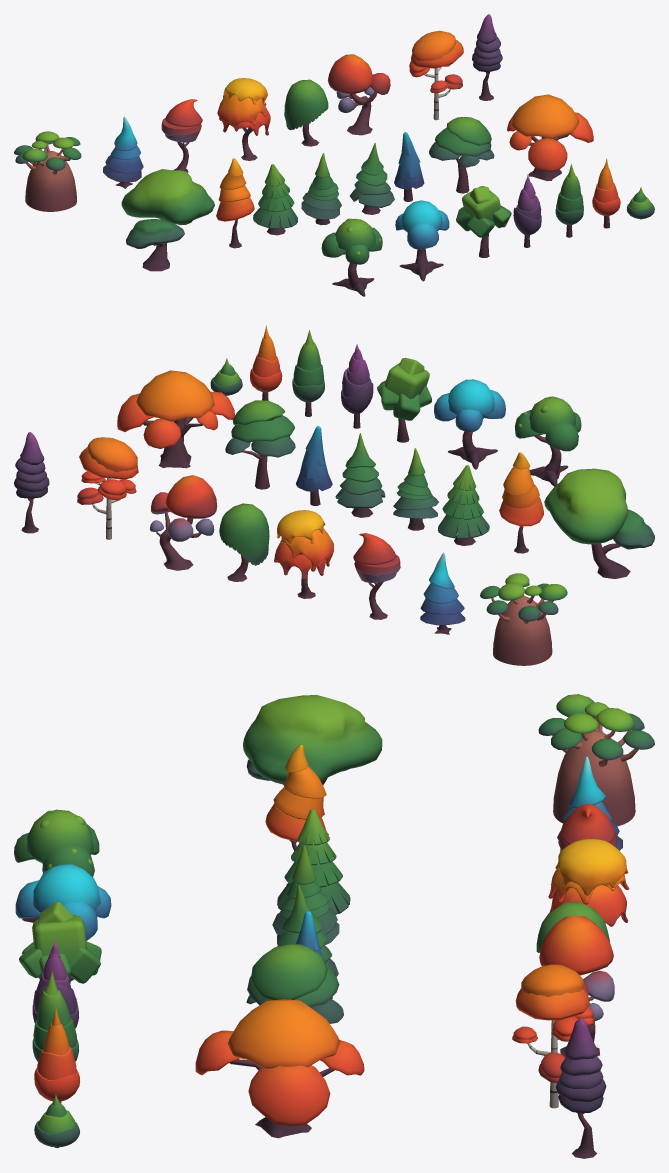
Rendered from Trees_Pack_01.fbx.
3 views of the same model, one above another, from view 1: azimuth 30°, elevation 25°; view 2: azimuth 150°, elevation 25°; view 3: azimuth 270°, elevation 25° (orthographic). The views are drawn at different scales.
Visible parts, largest first — view 1: Tree.026, Tree.006, Tree.027, Tree.019, Tree.007, Tree.017, Tree.013, Tree.021, Tree.012, Tree.005, Tree.010, Tree.018 (+11 smaller); view 2: Tree.026, Tree.006, Tree.027, Tree.019, Tree.021, Tree.007, Tree.012, Tree.017, Tree.013, Tree.005, Tree.018, Tree.010 (+11 smaller); view 3: Tree.006, Tree.026, Tree.027, Tree.021, Tree.017, Tree.007, Tree.019, Tree.012, Tree.005, Tree.013, Tree.020, Tree.014 (+10 smaller).
Part boxes in pixels (bbox=[...]): Tree.026: bbox=[121, 169, 214, 271]; Tree.006: bbox=[507, 94, 593, 181]; Tree.027: bbox=[14, 131, 81, 211]; Tree.019: bbox=[327, 54, 390, 135]; Tree.007: bbox=[429, 117, 494, 193]; Tree.017: bbox=[217, 78, 270, 160]; Tree.013: bbox=[321, 218, 382, 296]; Tree.021: bbox=[409, 30, 463, 120]; Tree.012: bbox=[395, 200, 449, 281]; Tree.005: bbox=[456, 186, 511, 257]; Tree.010: bbox=[253, 164, 297, 235]; Tree.018: bbox=[284, 79, 328, 146]; Tree.026: bbox=[544, 468, 654, 578]; Tree.006: bbox=[117, 370, 234, 468]; Tree.027: bbox=[480, 573, 567, 665]; Tree.019: bbox=[150, 475, 217, 570]; Tree.021: bbox=[77, 437, 138, 539]; Tree.007: bbox=[225, 400, 295, 489]; Tree.012: bbox=[434, 379, 505, 469]; Tree.017: bbox=[274, 510, 333, 598]; Tree.013: bbox=[514, 396, 581, 486]; Tree.005: bbox=[377, 357, 431, 442]; Tree.018: bbox=[219, 503, 269, 581]; Tree.010: bbox=[437, 465, 489, 545]; Tree.006: bbox=[195, 999, 364, 1138]; Tree.026: bbox=[243, 695, 382, 785]; Tree.027: bbox=[538, 694, 654, 826]; Tree.021: bbox=[512, 964, 594, 1108]; Tree.017: bbox=[548, 839, 629, 926]; Tree.007: bbox=[246, 944, 343, 1023]; Tree.019: bbox=[539, 916, 614, 1057]; Tree.012: bbox=[15, 864, 111, 981]; Tree.005: bbox=[19, 901, 101, 983]; Tree.013: bbox=[14, 809, 99, 922]; Tree.020: bbox=[555, 1018, 606, 1158]; Tree.014: bbox=[265, 745, 328, 884].
Size of the model in its own units: 3886 by 671 by 2787.
Materials: 1 (1 with a texture image).
